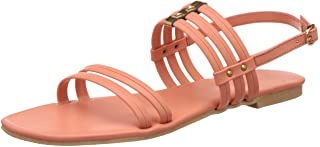shoes: (2, 1, 319, 142)
